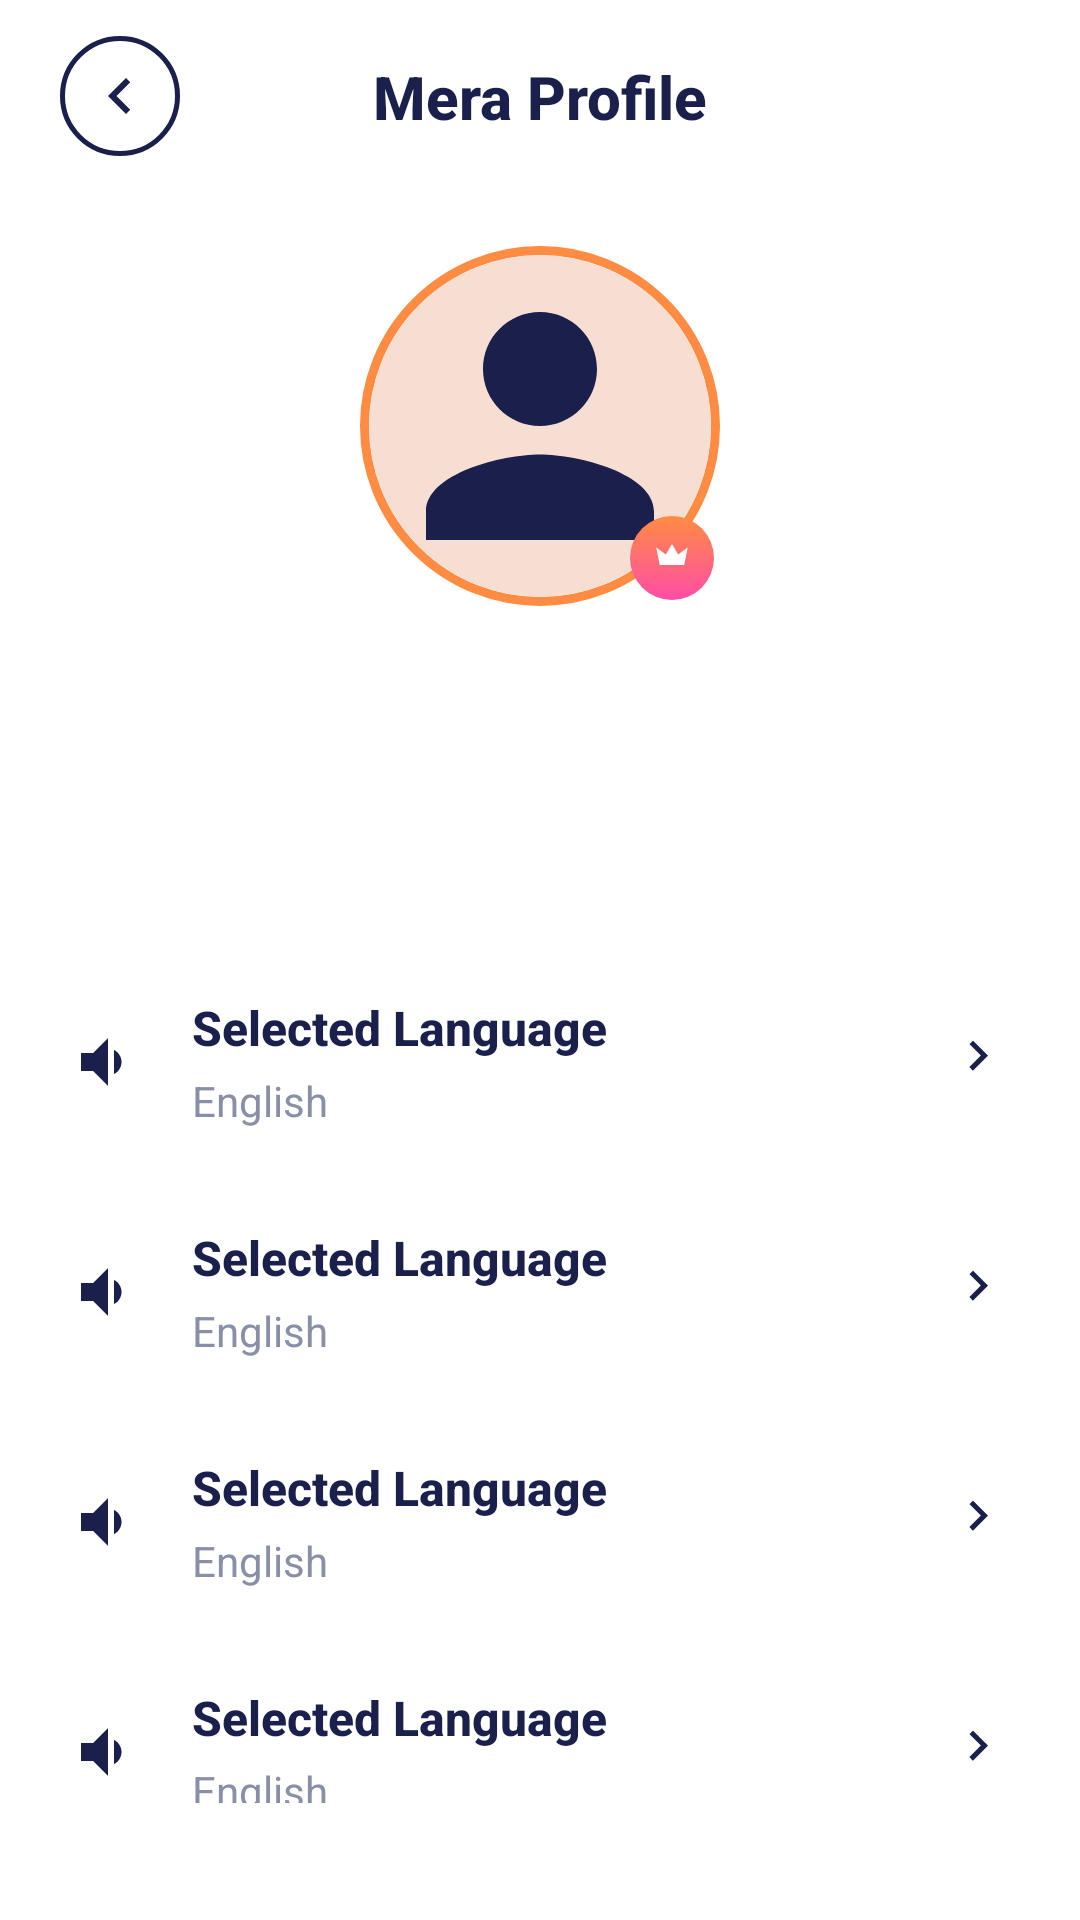

Icon bounding boxes for this 1080w x 1920h phone screenshot, format (x1, y1, x2, y2):
Back: (60, 36, 180, 156)
chevron right: (969, 1041, 988, 1071), (969, 1271, 988, 1301), (969, 1501, 988, 1531), (969, 1731, 988, 1761)
